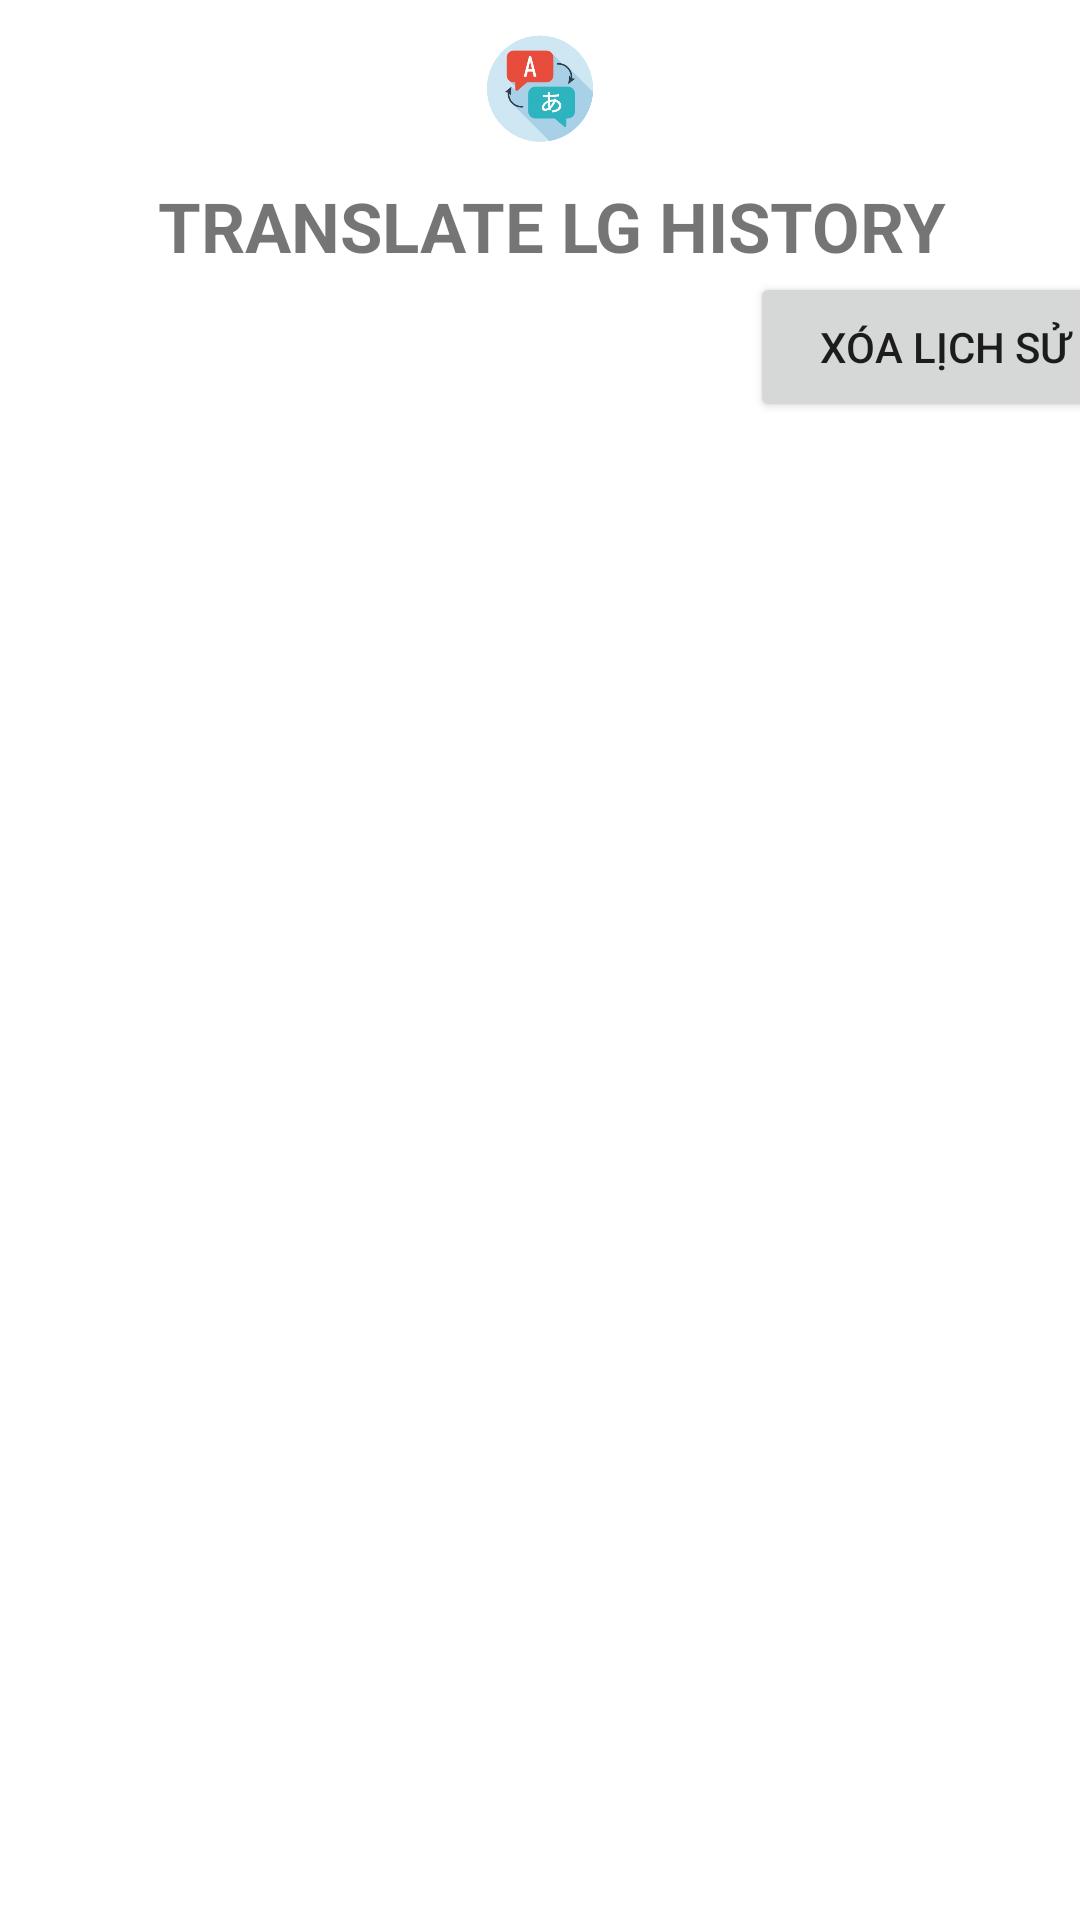

Screen size 1080×1920. Icon name, then its box in pixels as bbox=[x1, y1, x2, y2]:
languages: bbox=[487, 36, 593, 142]
